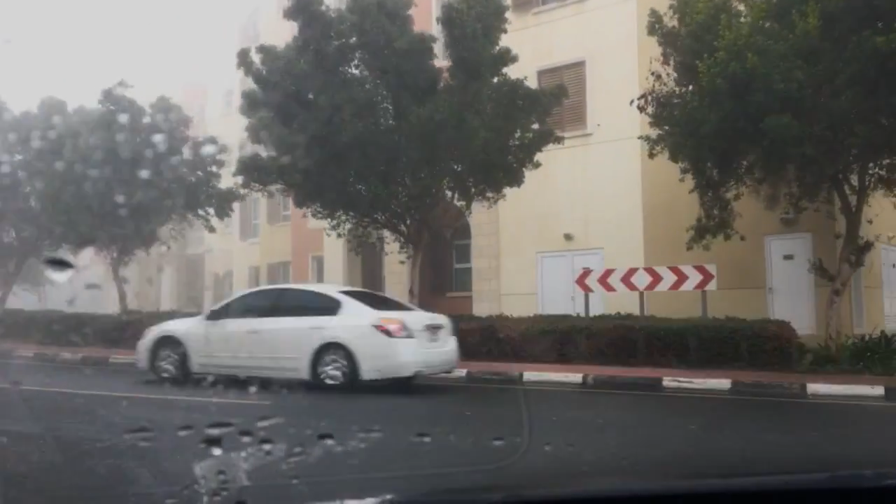car: (134, 281, 463, 395)
